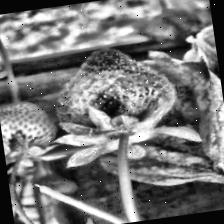Powdery Mildew Fruit: (50, 58, 165, 141)
